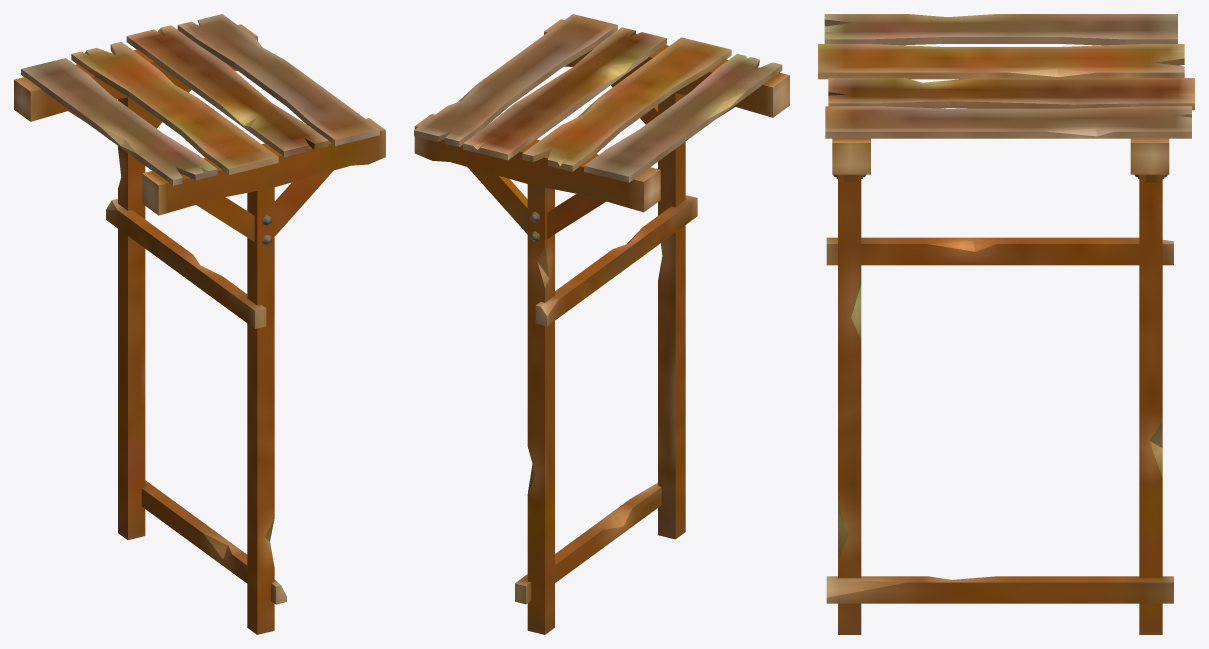
Rendered from mega-pack-cube-284.glb.
3 renders of one model, left to right at view 1: azimuth 30°, elevation 25°; view 2: azimuth 150°, elevation 25°; view 3: azimuth 270°, elevation 25°, orthographic. The views are drawn at different scales.
Visible parts, largest first — view 1: Cube.284; view 2: Cube.284; view 3: Cube.284.
Boxes of the visible parts, left/top/right/bottom form: Cube.284: left=14, top=14, right=385, bottom=634; Cube.284: left=414, top=14, right=789, bottom=634; Cube.284: left=818, top=14, right=1194, bottom=634.
Bounding box in the file's own units: 1.6 × 3.25 × 1.98.
Materials: 1 (1 with a texture image).
